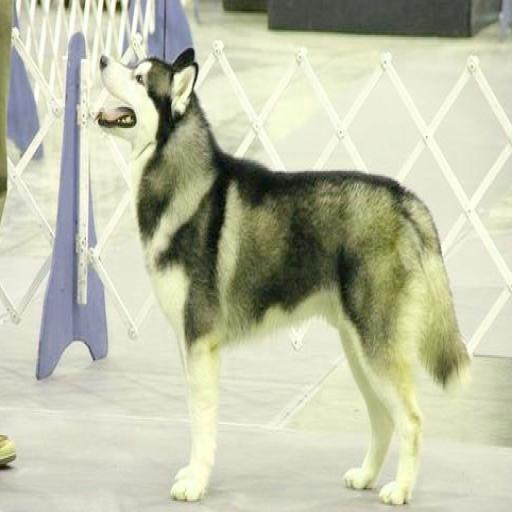dog_face: (91, 42, 196, 155)
